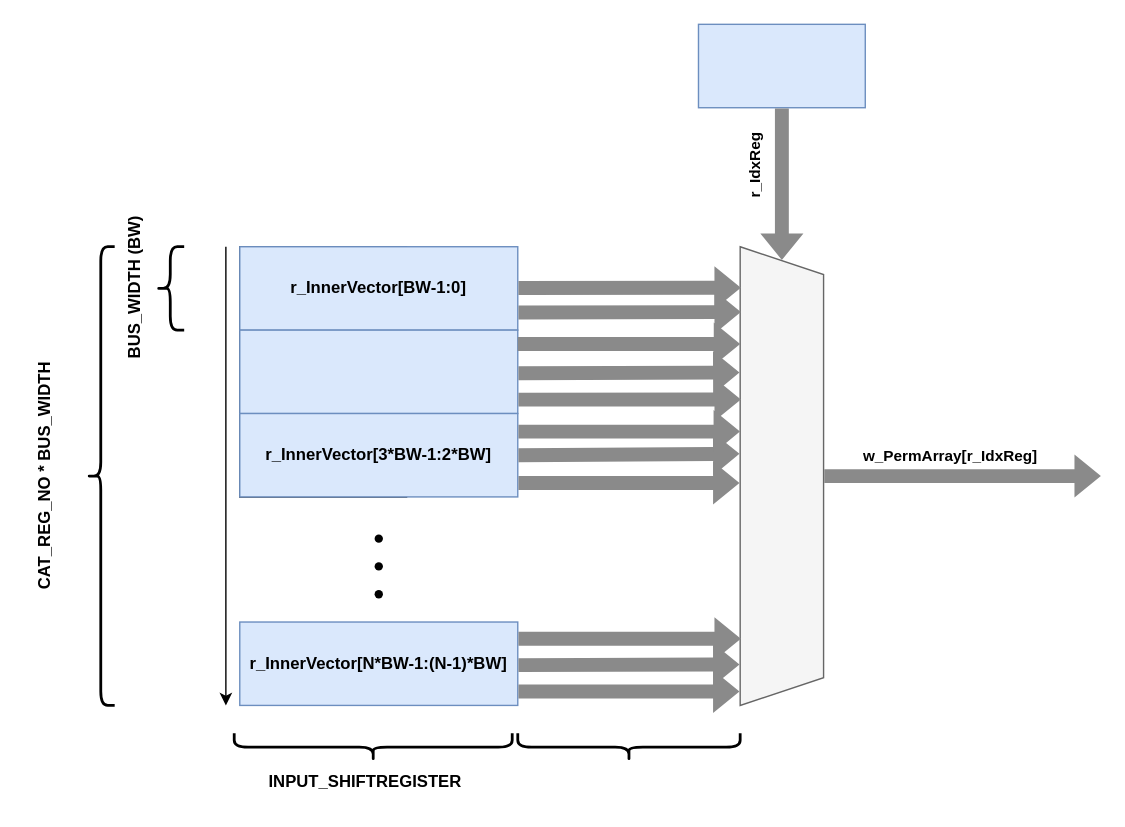
Some shapes in this 1125 by 827 pixel diagram are drawn without their labels. The box of each missing label's shape, as (x1, y1, x2, y2) in pixels:
IDX_REG: (697, 23, 865, 108)
r_InnerVector[2*BW-1:BW]: (238, 329, 518, 414)
w_PermArray: (516, 731, 741, 762)
